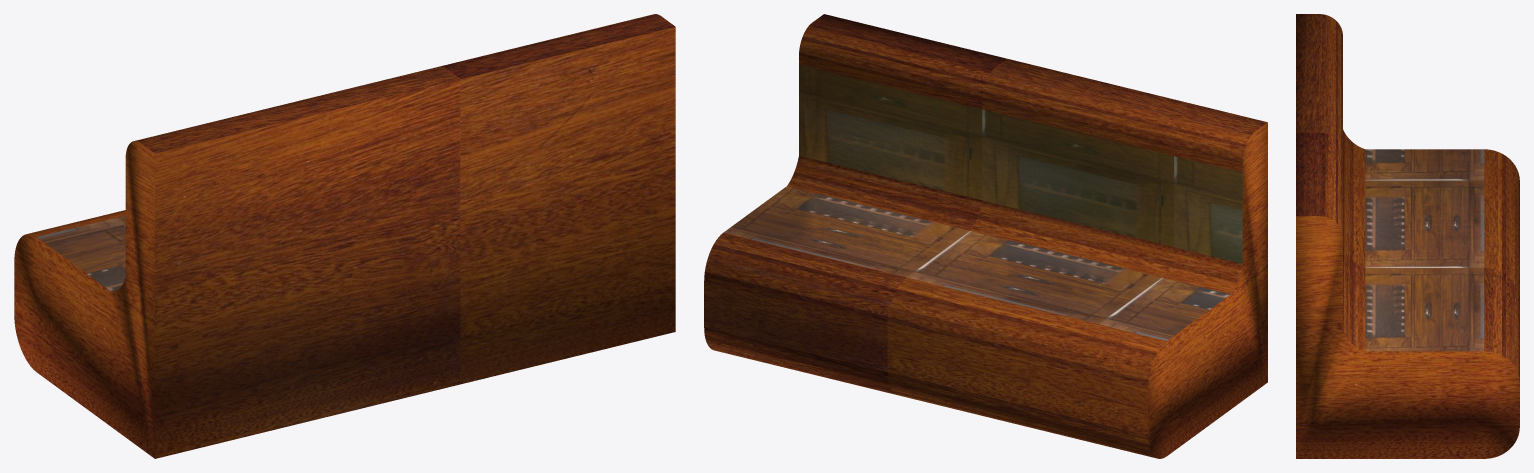
3 renders of one model, left to right at view 1: azimuth 30°, elevation 25°; view 2: azimuth 150°, elevation 25°; view 3: azimuth 270°, elevation 25°, orthographic. The views are drawn at different scales.
Visible parts, largest first — view 1: mesh1_mesh1-geometry; view 2: mesh1_mesh1-geometry; view 3: mesh1_mesh1-geometry.
Part boxes in pixels (<box>): mesh1_mesh1-geometry: <box>14,14,675,458</box>; mesh1_mesh1-geometry: <box>704,14,1267,458</box>; mesh1_mesh1-geometry: <box>1296,14,1519,458</box>.
Size of the model in its own units: 0.8077 by 0.4525 by 0.3781.
